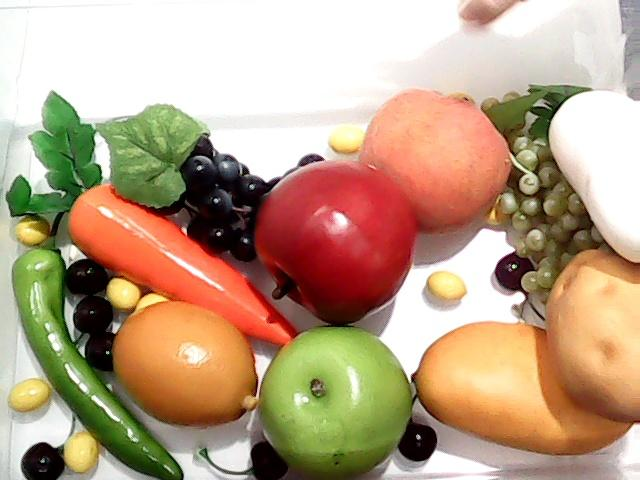apple: (245, 320, 430, 477), (254, 157, 418, 323)
carrot: (4, 92, 298, 348)
grape: (488, 128, 598, 280), (163, 130, 265, 248)
lemon: (113, 291, 271, 429)
mango: (410, 320, 640, 456)
peach: (358, 87, 514, 231)
pepper: (11, 197, 183, 480)
potato: (546, 249, 640, 423)
radish: (531, 80, 640, 264)
